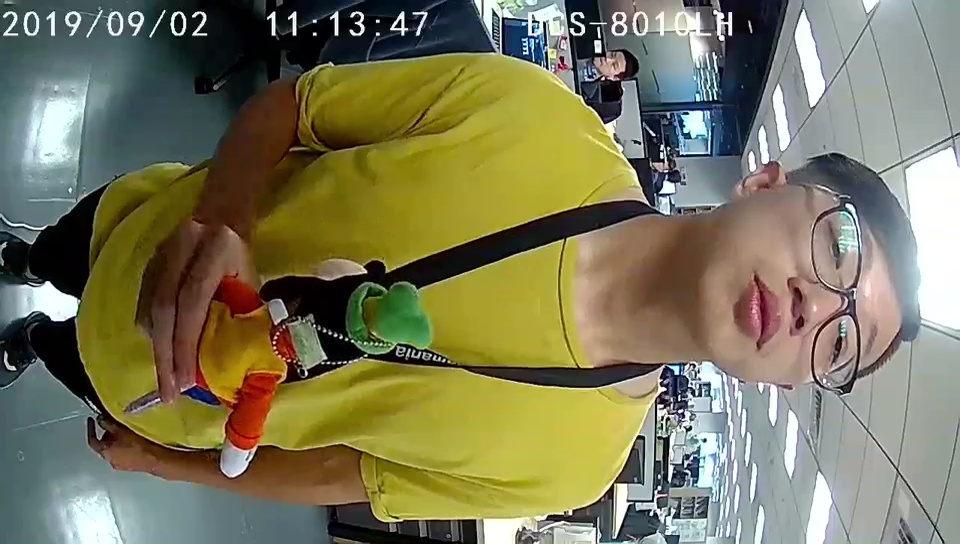goofy: (219, 259, 433, 479)
